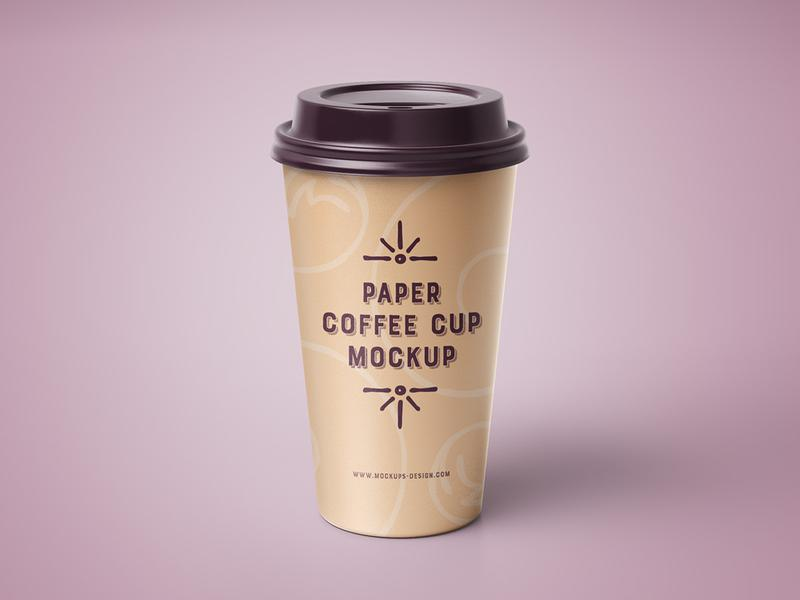cup: (268, 69, 536, 550)
